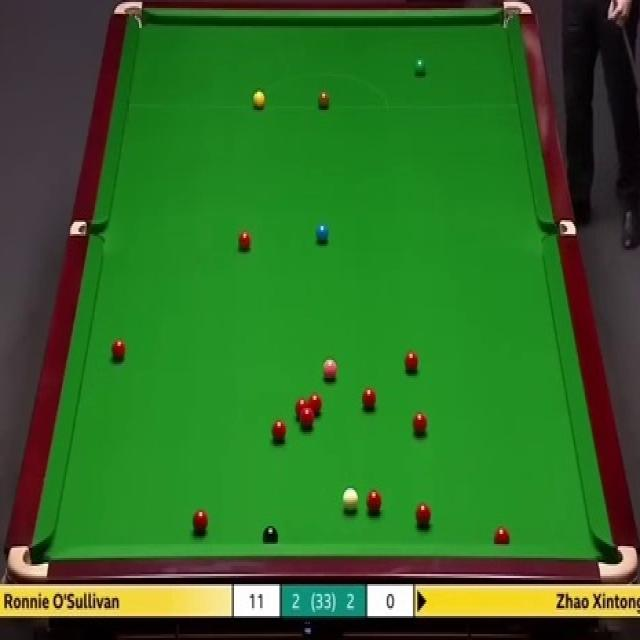black-ball: (262, 525, 280, 546)
blue-ball: (315, 224, 330, 244)
brown-ball: (318, 88, 330, 108)
green-ball: (412, 56, 426, 78)
pink-ball: (322, 359, 339, 384)
red-ball: (411, 412, 429, 439), (358, 385, 376, 411), (108, 338, 124, 367), (191, 508, 208, 535), (404, 349, 420, 375), (366, 490, 382, 516), (414, 504, 432, 527), (272, 420, 287, 444), (294, 398, 308, 422), (236, 230, 251, 252), (309, 393, 322, 418), (494, 525, 510, 545), (300, 411, 316, 430)
white-ball: (343, 489, 357, 513)
yellow-ball: (252, 91, 266, 109)
